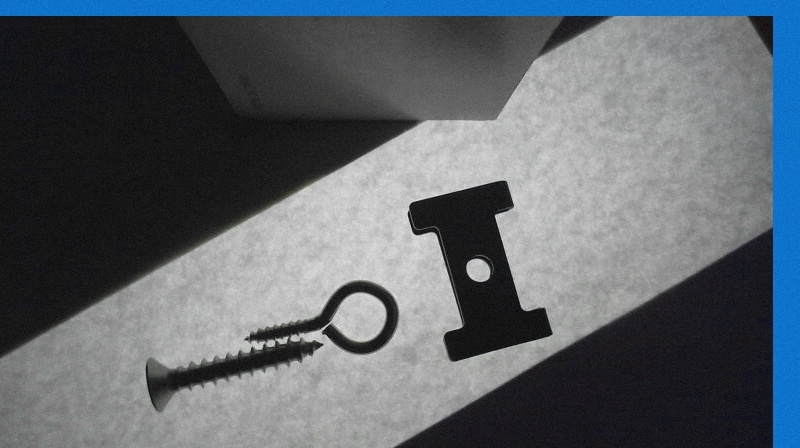O001: (244, 279, 402, 354)
O002: (408, 175, 555, 362)
S001: (143, 338, 325, 411)
